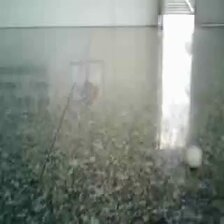w: (186, 144, 204, 169)
